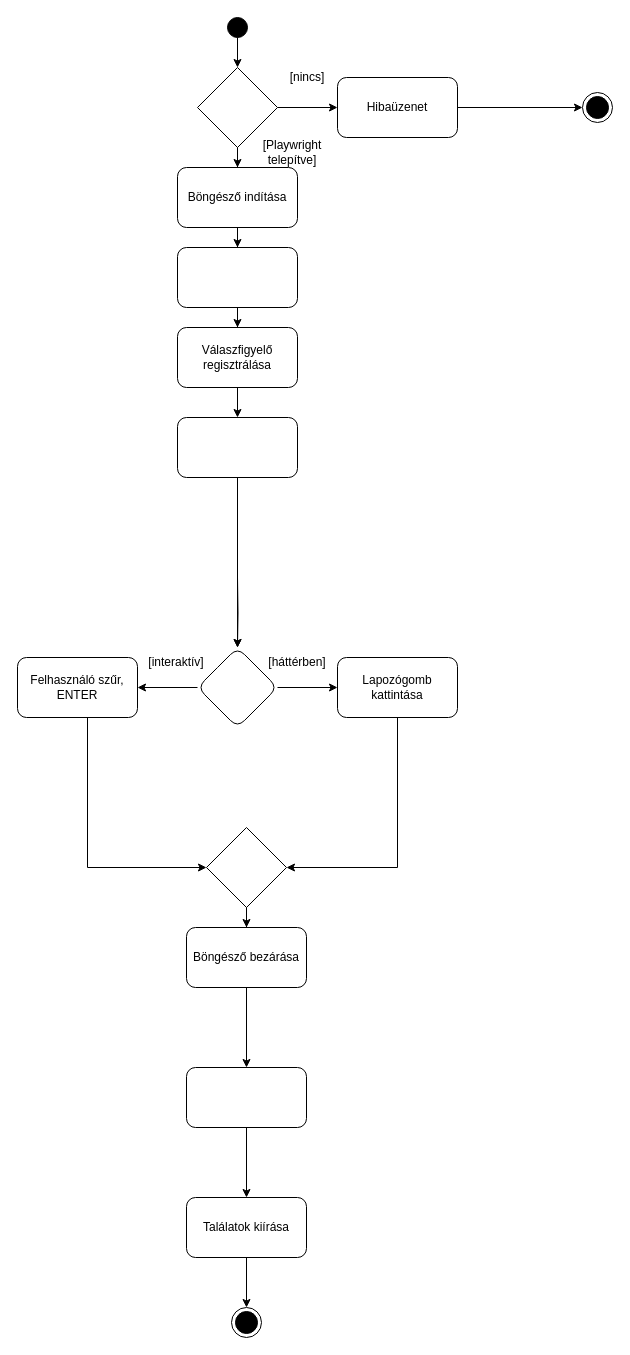
The diagram is 630 pixels wide and 1355 high, and some of its shapes have lost their labels. Each missing label, with the centre of its shape:
Kereső oldal betöltése, várakozás: the point at 237,447
Oldal létrehozása (UA, hu-HU): the point at 237,277
Találatok rendezése típus szerint: the point at 246,1097
